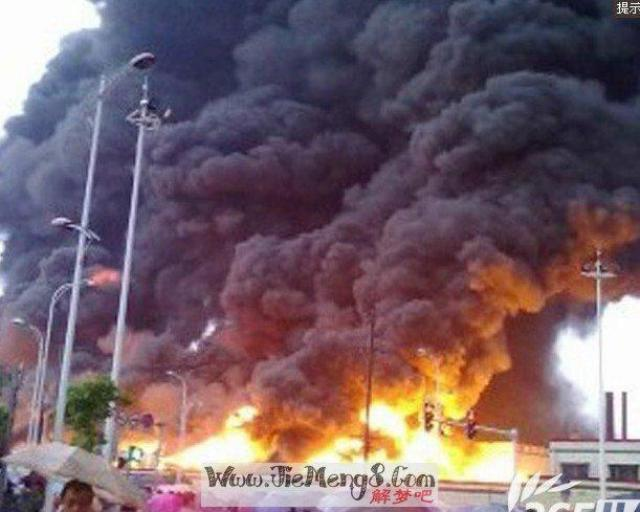fire: (174, 431, 264, 462), (443, 440, 513, 477), (388, 429, 444, 462), (360, 400, 406, 431), (304, 437, 361, 458), (220, 402, 258, 427)
